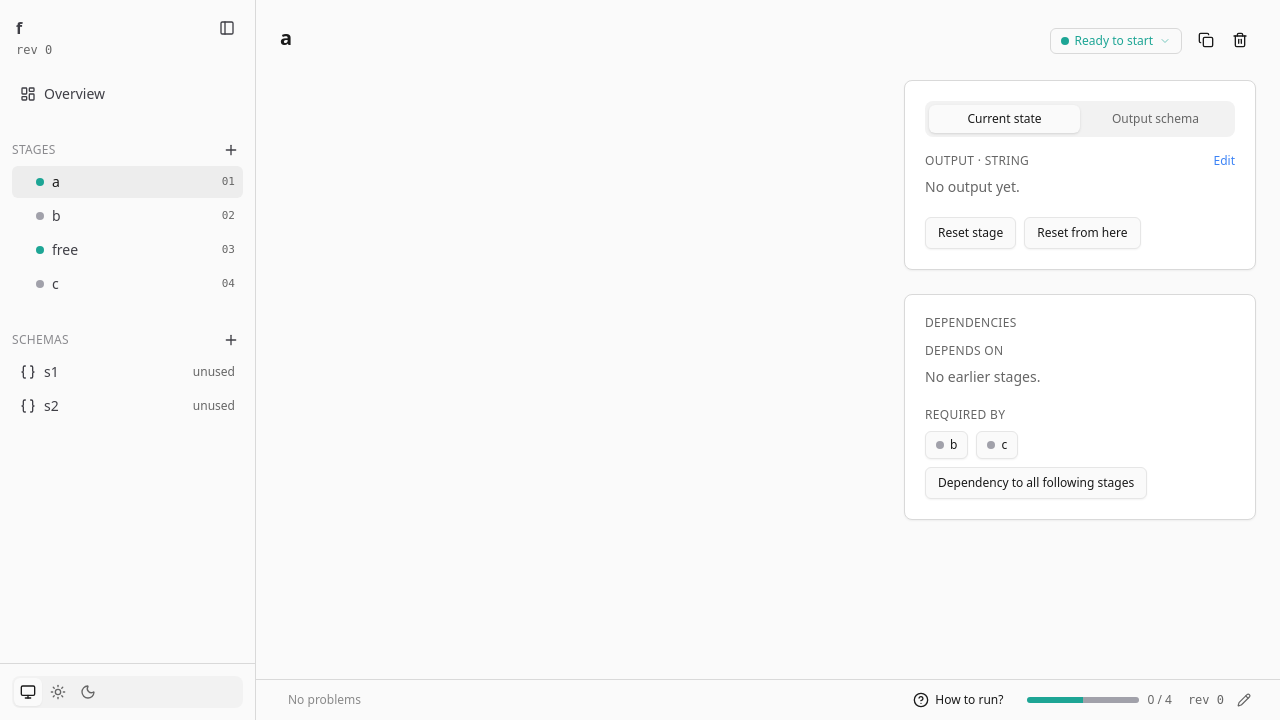
it: stage list › rename_to_an_existing_name_is_refused_with_a_message
Click the button named "Edit stage name". click: (286, 38)
box: x1=276 y1=24 x2=296 y2=52
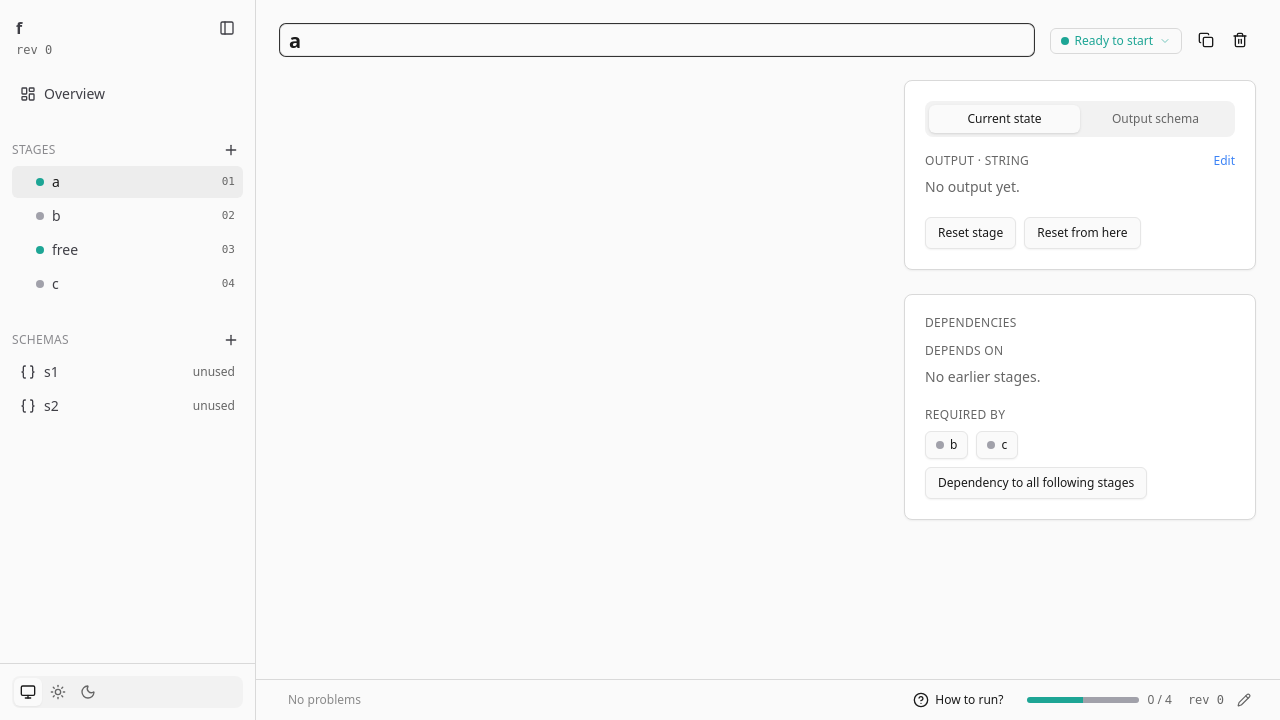
Replace the text in the field named "Stage name" with "b". click: (657, 40)
box: x1=280 y1=24 x2=1034 y2=56
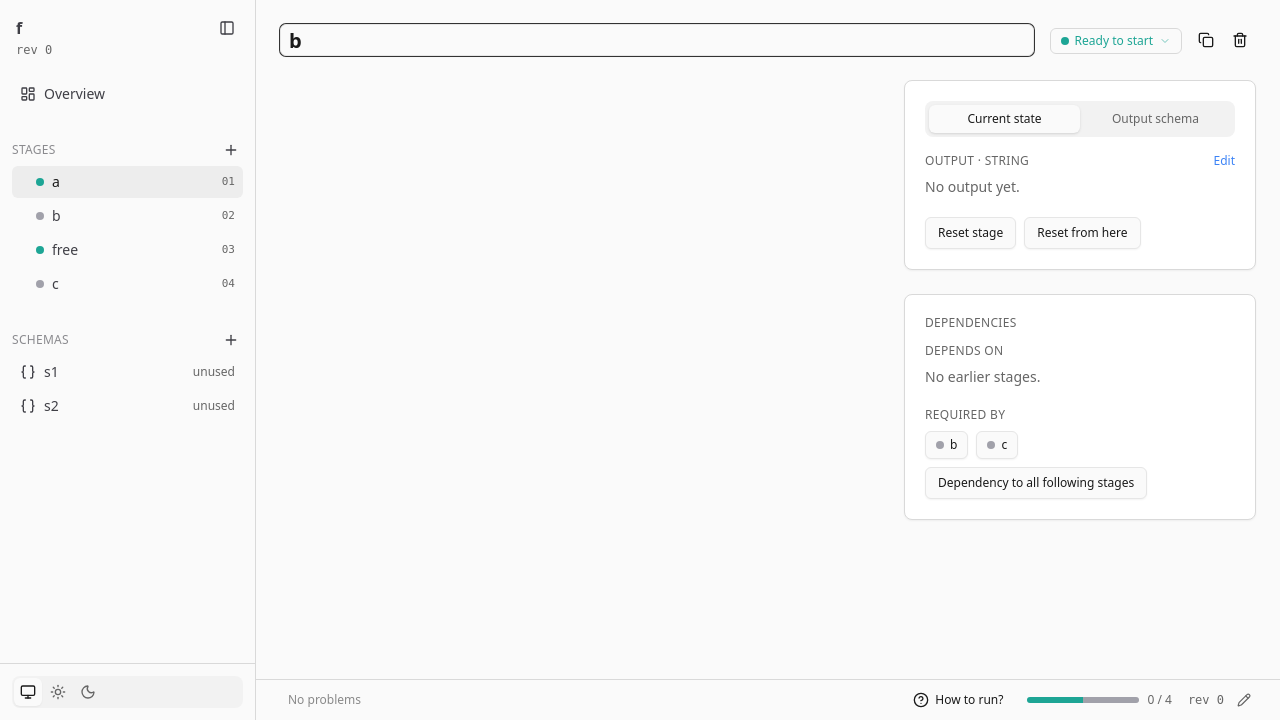
Press Enter in the field named "Stage name", box x1=280 y1=24 x2=1034 y2=56
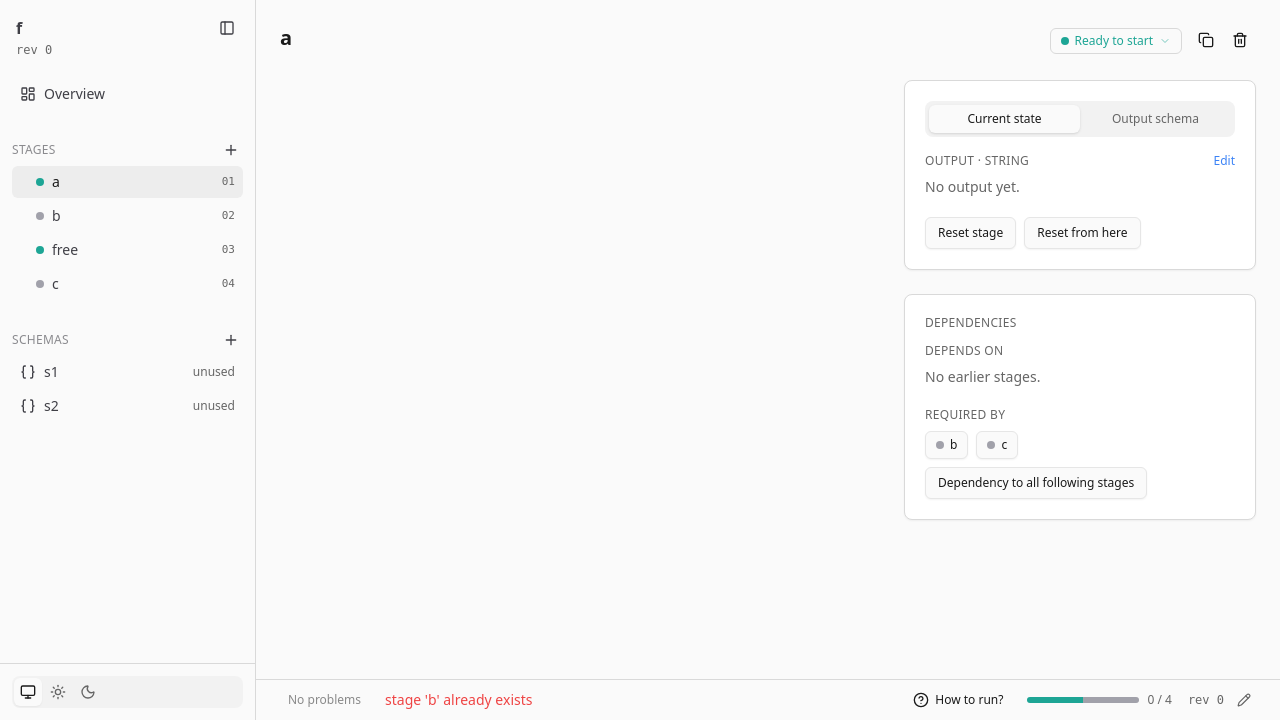
Expected: the message shows "already exists", x1=385 y1=690 x2=532 y2=709
